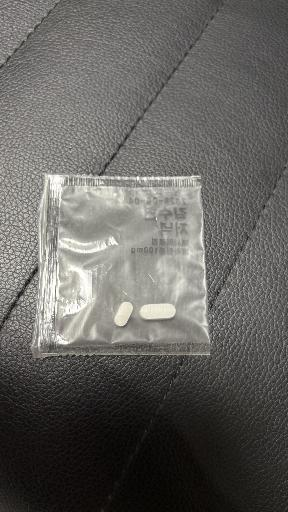Mosamir: (114, 302, 133, 326)
Traline: (140, 303, 176, 320)
vinyl: (31, 174, 210, 358)
